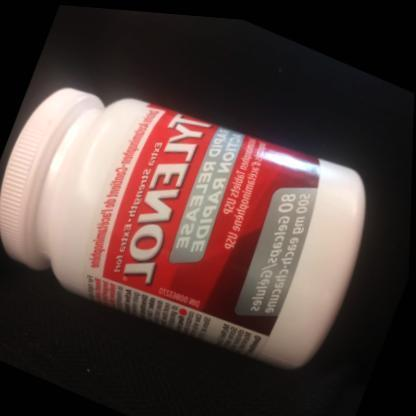jar: (0, 67, 383, 379)
